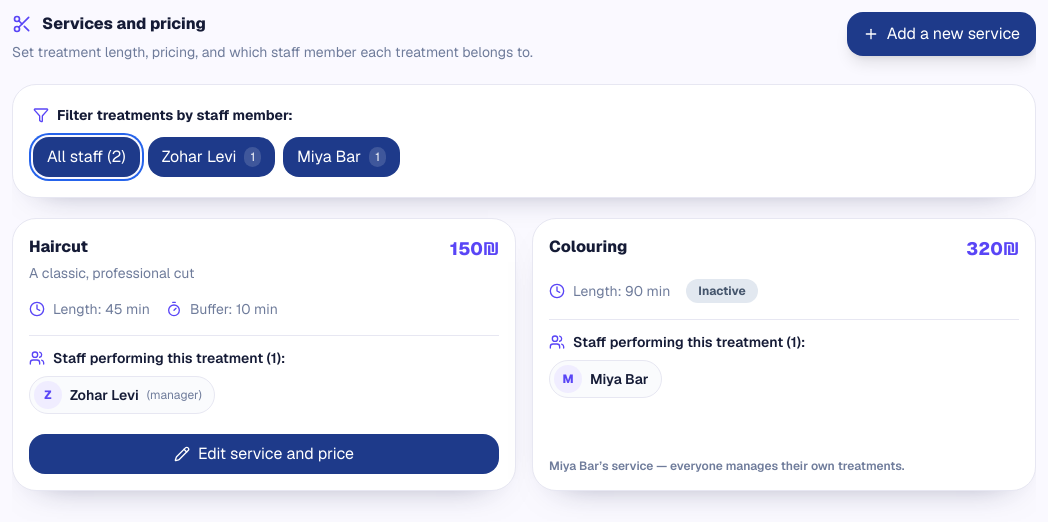
Test: business services screen › filters the catalogue by staff member in place, without a round trip
The width and height of the screenshot is (1048, 522).
Step 1. Click the tab "Miya Bar 1" → {"x": 341, "y": 157}, box [283, 137, 400, 177]
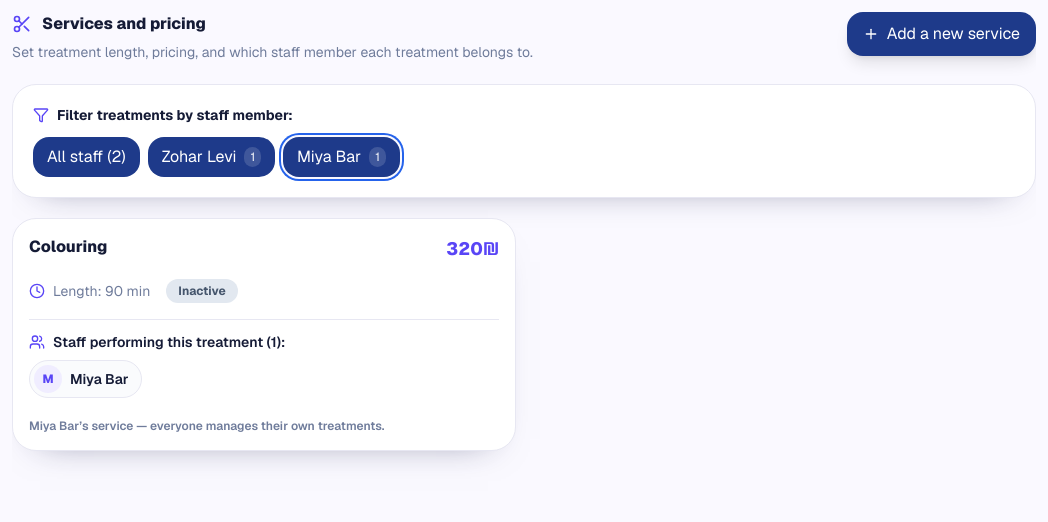
Expected: the heading "Colouring" is shown, [29, 235, 107, 259]
Now the heading "Haircut" is gone
Step 2. Click the tab "All staff (2)" → {"x": 86, "y": 157}, box [33, 137, 140, 177]
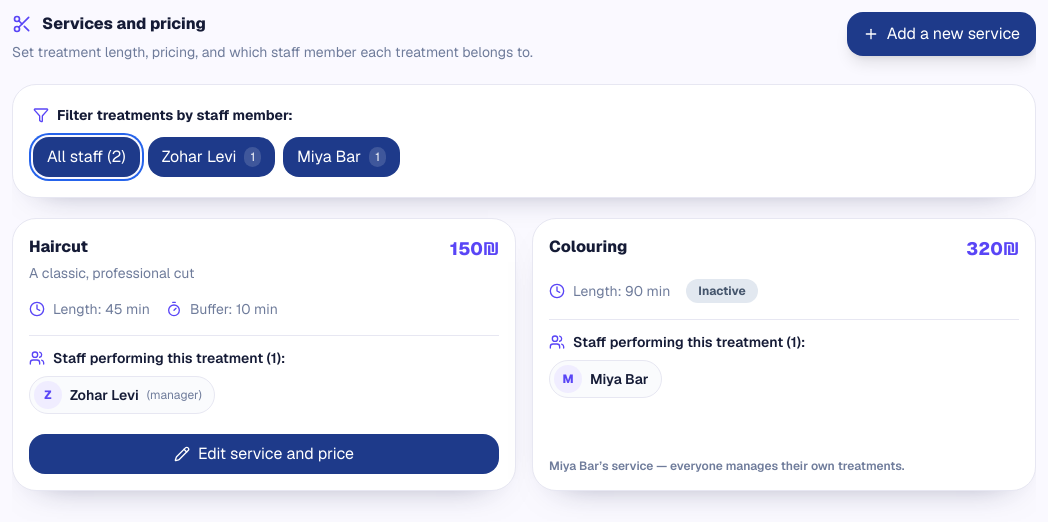
Now the heading "Haircut" is shown, box [29, 236, 88, 257]
